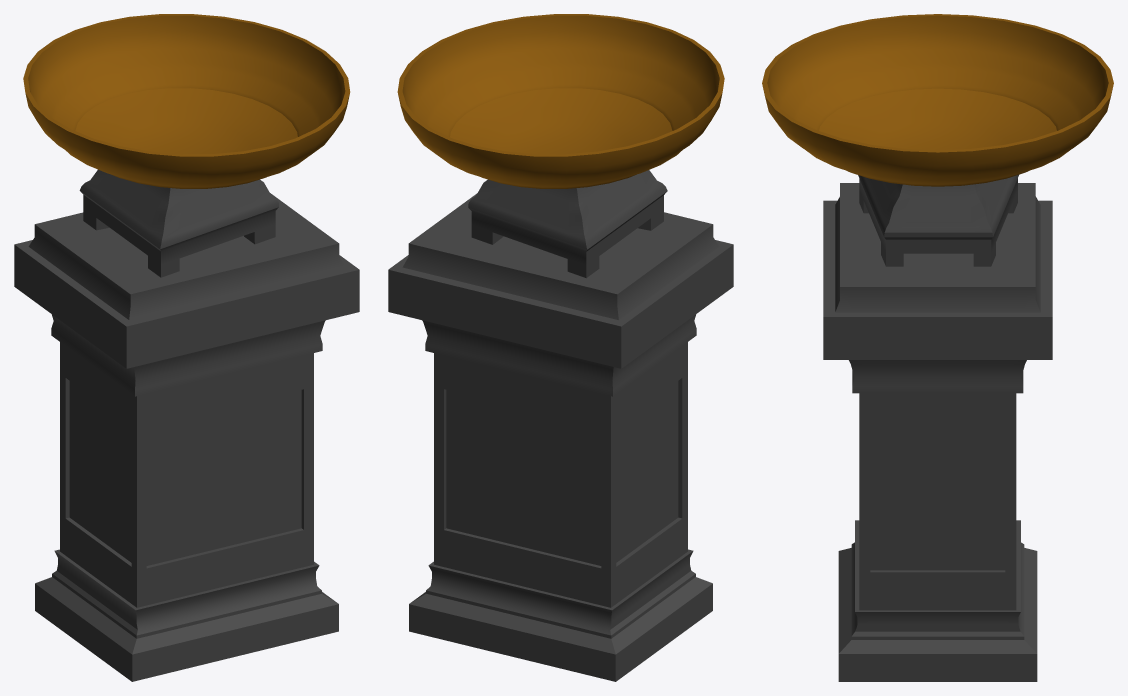
File: farol_base_001.fbx
3 renders of one model, left to right at view 1: azimuth 30°, elevation 25°; view 2: azimuth 150°, elevation 25°; view 3: azimuth 270°, elevation 25°, orthographic. The views are drawn at different scales.
Parts seen in each view (by area): view 1: farol_base_001; view 2: farol_base_001; view 3: farol_base_001.
Boxes of the visible parts, x1=… form: farol_base_001: x1=14, y1=14, x2=359, y2=681; farol_base_001: x1=388, y1=14, x2=733, y2=681; farol_base_001: x1=762, y1=14, x2=1113, y2=681.
Bounding box in the file's own units: 147 × 270 × 158.
